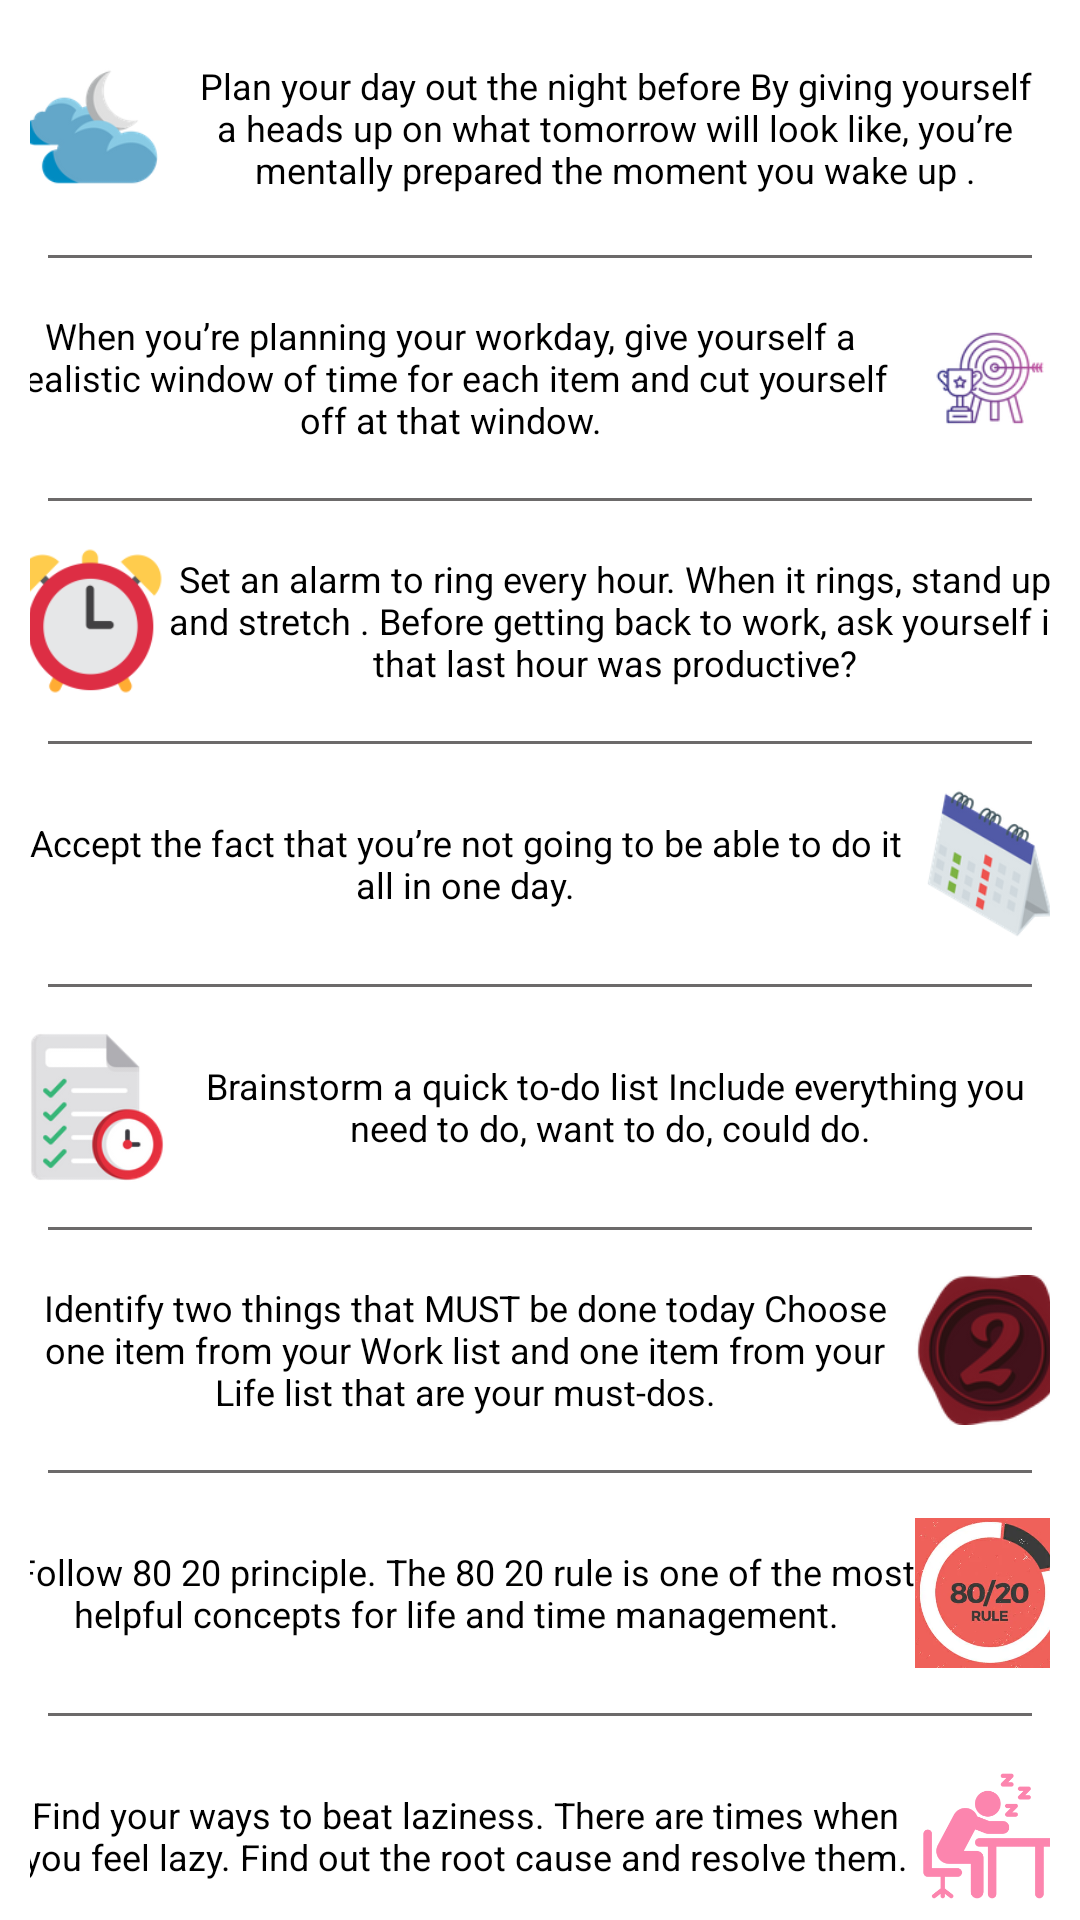

Locate icon controls on the screen. Image size 1080×1920, boxes as bbox=[x1, y1, x2, y2].
calendar: bbox=[928, 791, 1050, 935]
success: bbox=[936, 332, 1043, 424]
